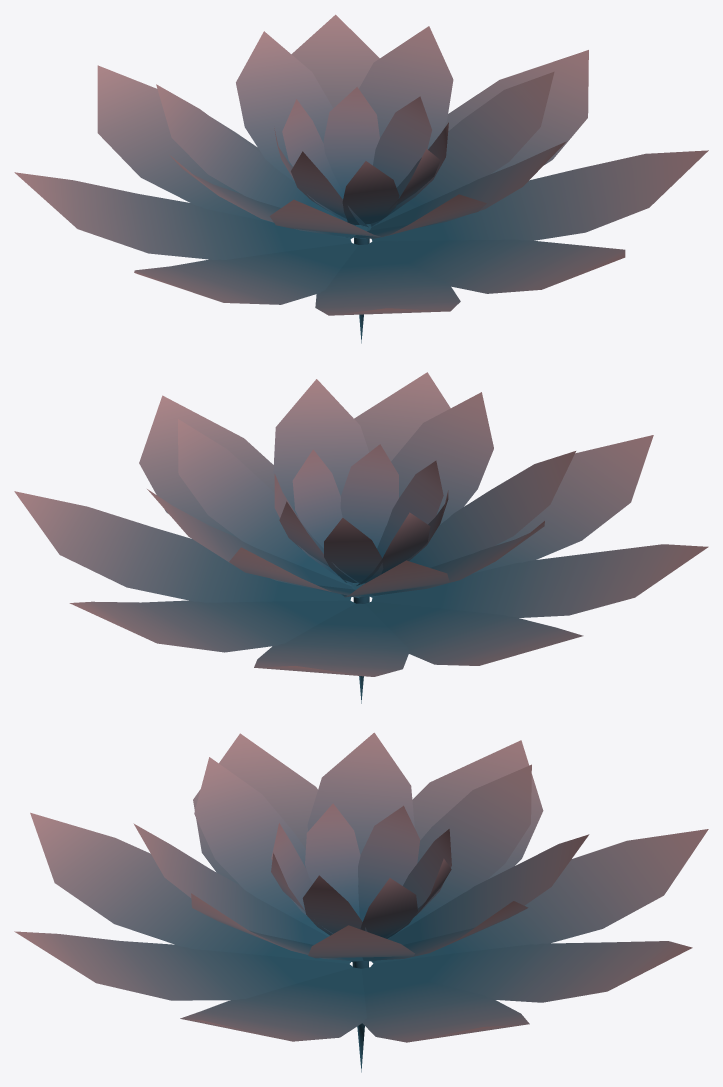
File: plants-cacti-succulents-pink-rosette_v1.glb
3 renders of one model, top to bottom at view 1: azimuth 30°, elevation 25°; view 2: azimuth 150°, elevation 25°; view 3: azimuth 270°, elevation 25°, orthographic. The views are drawn at different scales.
Visible parts, largest first — view 1: Pink Rosette_v1; view 2: Pink Rosette_v1; view 3: Pink Rosette_v1.
Boxes of the visible parts, x1,y1,x2,y2 form: Pink Rosette_v1: [14, 14, 708, 343]; Pink Rosette_v1: [14, 372, 708, 703]; Pink Rosette_v1: [14, 732, 708, 1072].
Bounding box in the file's own units: 0.25 × 0.0968 × 0.25.
